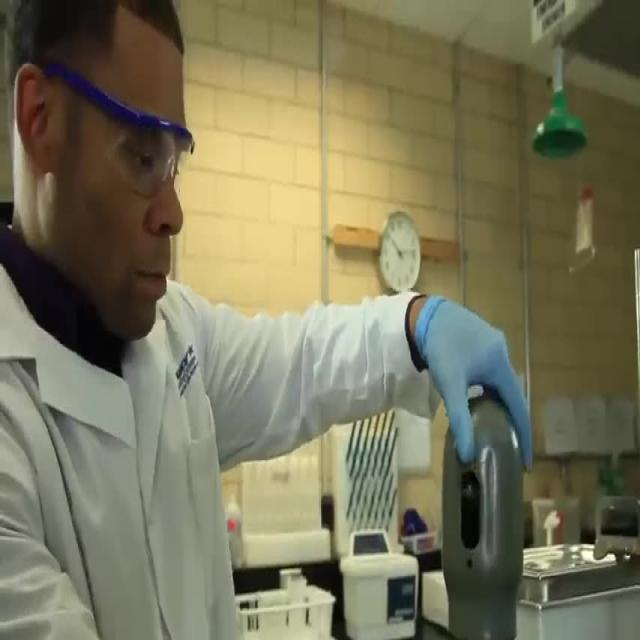googles: (105, 97, 195, 193)
labcoat: (2, 257, 444, 640)
